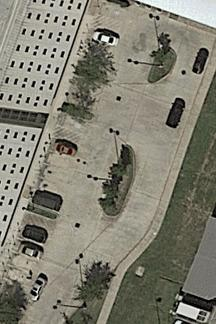parkingspot: (28, 135, 83, 214), (0, 221, 53, 290), (56, 110, 93, 137), (84, 25, 121, 51), (97, 0, 131, 24)
